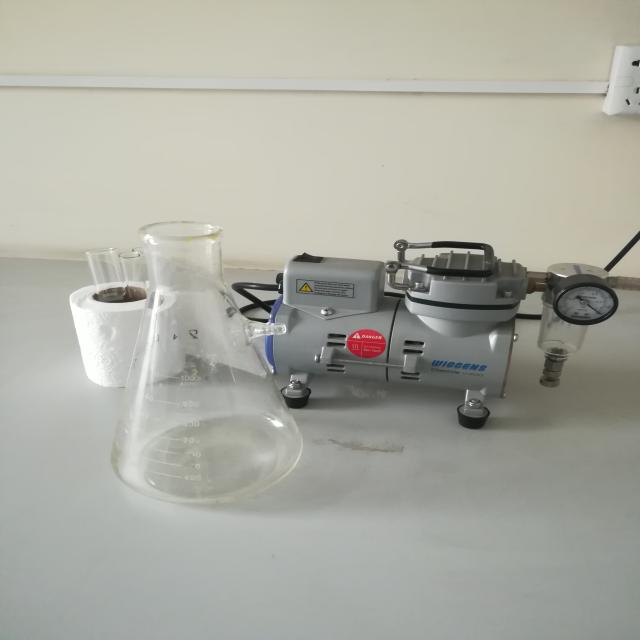Conical_Flask: (75, 189, 334, 542)
